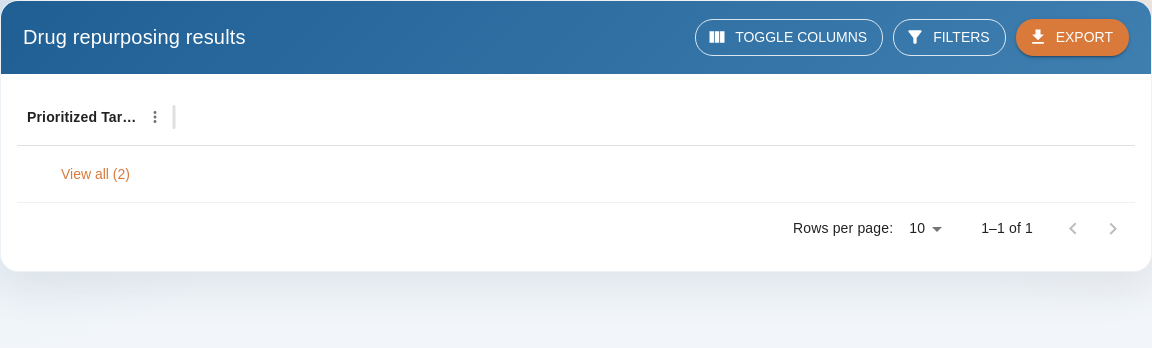
Scenario: DataPanel rich cells › renders pipe-delimited plain strings as multiline cell content
Expected: the text "GABBR1" is not shown
Expected: the text "GABRG1" is not shown
Click the button "View all (2)". click: (96, 174)
box: top-left (61, 164), bottom-right (130, 184)
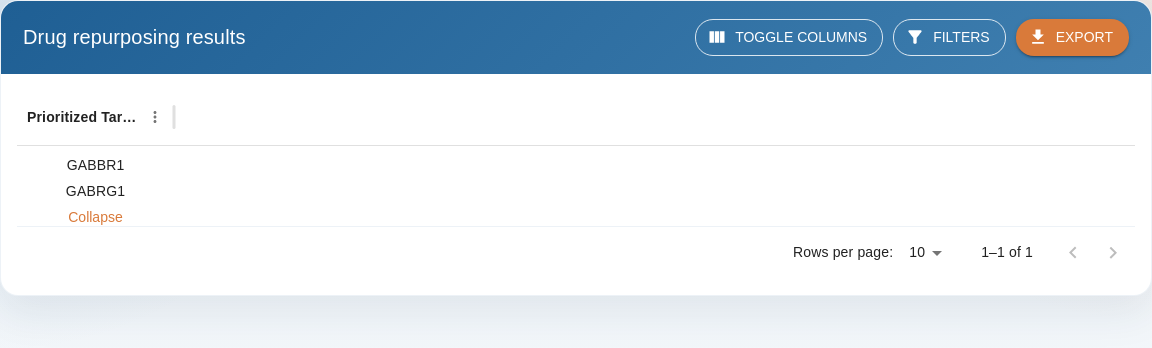
Now the text "GABBR1" is shown, box top-left (67, 154), bottom-right (124, 174)
Now the text "GABRG1" is shown, box top-left (66, 180), bottom-right (125, 200)
Click the button "Collapse". click: (96, 216)
box: top-left (68, 206), bottom-right (123, 226)
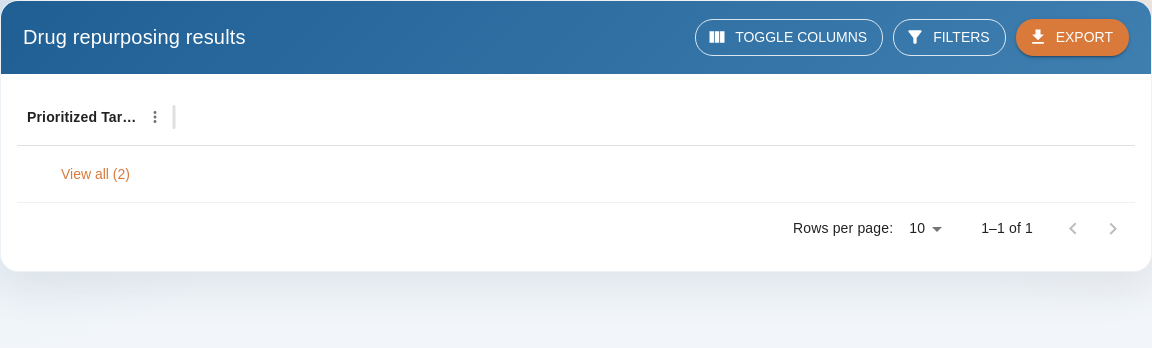
Now the text "GABBR1" is gone
Now the text "GABRG1" is gone
Now the button "View all (2)" is shown, box top-left (61, 164), bottom-right (130, 184)
